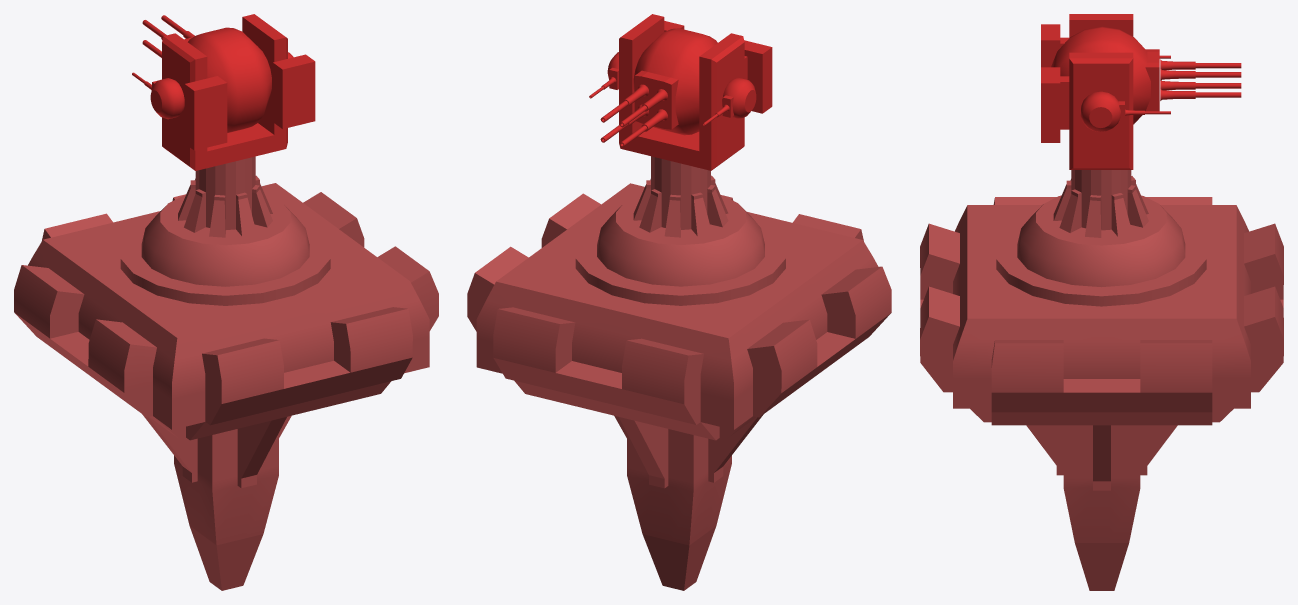
The model's file is Space Tower Level 3.FBX.
The picture shows the model from 3 angles, left to right: view 1: azimuth 30°, elevation 25°; view 2: azimuth 150°, elevation 25°; view 3: azimuth 270°, elevation 25°; orthographic projection.
Parts seen in each view (by area): view 1: Tower Base, Tower turning structure, GunBox, Tower turning base, Main Gun, Secondary Gun 1; view 2: Tower Base, Tower turning structure, GunBox, Tower turning base, Main Gun, Secondary Gun 1; view 3: Tower Base, Tower turning structure, GunBox, Tower turning base, Main Gun, Secondary Gun 2, Lower Gun part001, Lower Gun part.
Part boxes in pixels (x1,y1,x2,y2): Tower Base: [14, 183, 438, 590]; Tower turning structure: [141, 156, 309, 286]; GunBox: [162, 14, 315, 170]; Tower turning base: [120, 217, 330, 305]; Main Gun: [184, 27, 271, 132]; Secondary Gun 1: [150, 78, 184, 119]; Tower Base: [467, 183, 891, 590]; Tower turning structure: [597, 156, 764, 286]; GunBox: [619, 14, 772, 170]; Tower turning base: [575, 217, 785, 305]; Main Gun: [633, 28, 717, 135]; Secondary Gun 1: [722, 77, 756, 118]; Tower Base: [920, 197, 1283, 590]; Tower turning structure: [1017, 170, 1185, 287]; GunBox: [1041, 14, 1133, 169]; Tower turning base: [996, 218, 1206, 306]; Main Gun: [1051, 26, 1159, 124]; Secondary Gun 2: [1080, 91, 1124, 131]; Lower Gun part001: [1160, 59, 1195, 90]; Lower Gun part: [1160, 69, 1195, 100].
Bounding box in the file's own units: 61.08 × 102 × 61.08.
